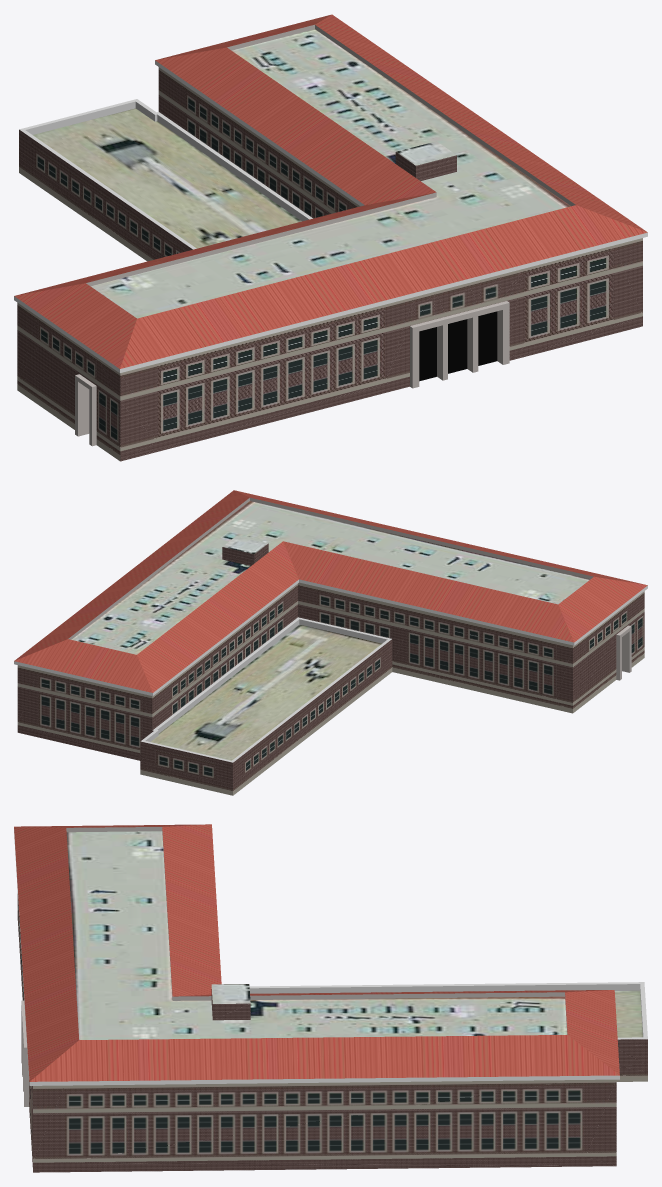
File: STON.fbx
The picture shows the model from 3 angles, top to bottom: view 1: azimuth 30°, elevation 25°; view 2: azimuth 150°, elevation 25°; view 3: azimuth 270°, elevation 25°; orthographic projection. The views are drawn at different scales.
Parts seen in each view (by area): view 1: Model; view 2: Model; view 3: Model.
Part boxes in pixels (x1=…): Model: x1=14, y1=14, x2=647, y2=461; Model: x1=14, y1=490, x2=647, y2=795; Model: x1=14, y1=824, x2=647, y2=1172.
Size of the model in its own units: 2249 by 504 by 2341.
